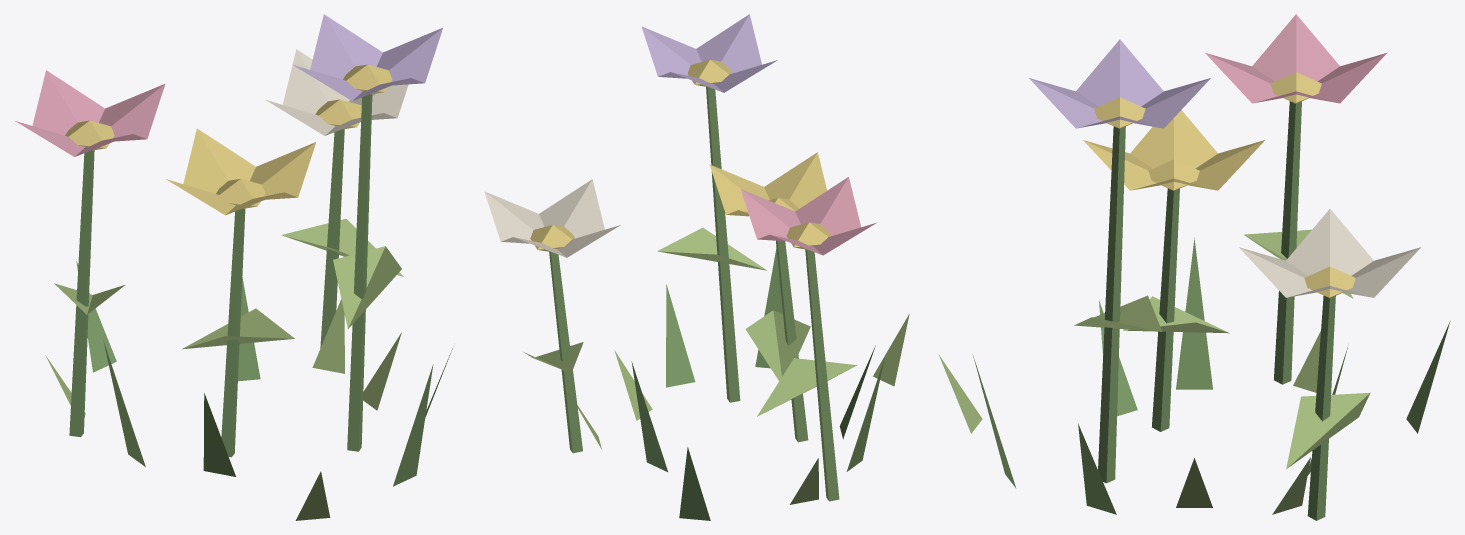
The picture shows the model from 3 angles, left to right: view 1: azimuth 30°, elevation 25°; view 2: azimuth 150°, elevation 25°; view 3: azimuth 270°, elevation 25°; orthographic projection. The views are drawn at different scales.
Visible parts, largest first — view 1: Body; view 2: Body; view 3: Body.
Part boxes in pixels (x1,y1,x2,y2): Body: (15, 14, 452, 520); Body: (484, 14, 909, 520); Body: (938, 14, 1450, 520).
Size of the model in its own units: 1.49 by 1.34 by 1.51.
